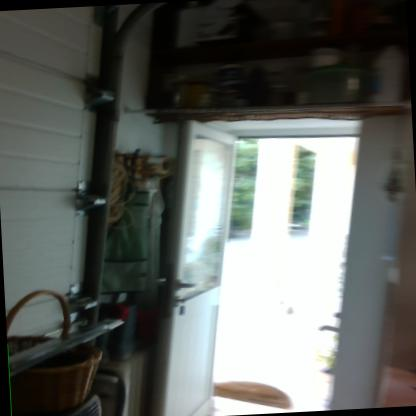open: (152, 100, 415, 415)
